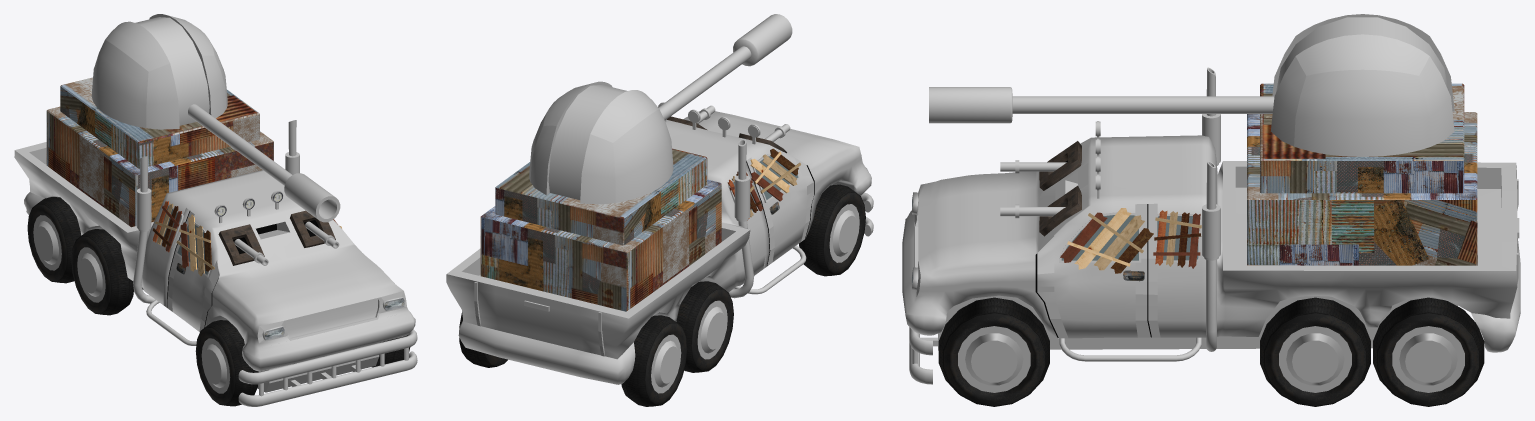
Rendered from Main_Tank_Optimized7.FBX.
The picture shows the model from 3 angles, left to right: view 1: azimuth 30°, elevation 25°; view 2: azimuth 150°, elevation 25°; view 3: azimuth 270°, elevation 25°; orthographic projection. The views are drawn at different scales.
Parts seen in each view (by area): view 1: Optimized_MainTankBody, Turret_Protector, MidLowPolyTireRight, FrontLowPolyTireRight, RearLowPolyTireRight, TurretBarrel, Turret; view 2: Optimized_MainTankBody, Turret_Protector, FrontLowPolyTireRight, RearLowPolyTireRight, Turret, MidLowPolyTireRight, TurretBarrel, RearLowPolyTireLeft; view 3: Optimized_MainTankBody, Turret_Protector, FrontLowPolyTireLeft, RearLowPolyTireLeft, MidLowPolyTireLeft, TurretBarrel, Turret, testGun2, testGun1.
Part boxes in pixels (box(x1,y1,x2,y2)): Optimized_MainTankBody: box(14, 77, 417, 406); Turret_Protector: box(91, 14, 227, 129); MidLowPolyTireRight: box(71, 229, 133, 315); FrontLowPolyTireRight: box(195, 320, 258, 406); RearLowPolyTireRight: box(27, 197, 81, 283); TurretBarrel: box(188, 104, 340, 222); Turret: box(135, 17, 209, 125); Optimized_MainTankBody: box(446, 102, 873, 384); Turret_Protector: box(529, 81, 673, 204); FrontLowPolyTireRight: box(799, 184, 865, 276); RearLowPolyTireRight: box(621, 315, 687, 406); Turret: box(548, 85, 627, 199); MidLowPolyTireRight: box(676, 281, 733, 372); TurretBarrel: box(658, 14, 792, 120); RearLowPolyTireLeft: box(459, 312, 507, 367); Optimized_MainTankBody: box(902, 67, 1520, 384); Turret_Protector: box(1270, 14, 1454, 156); FrontLowPolyTireLeft: box(938, 297, 1049, 406); RearLowPolyTireLeft: box(1373, 297, 1484, 406); MidLowPolyTireLeft: box(1260, 297, 1370, 406); TurretBarrel: box(929, 87, 1274, 123); Turret: box(1276, 17, 1448, 92); testGun2: box(1000, 160, 1066, 173); testGun1: box(1000, 204, 1065, 218).
Size of the model in its own units: 1254 by 1685 by 2855.
